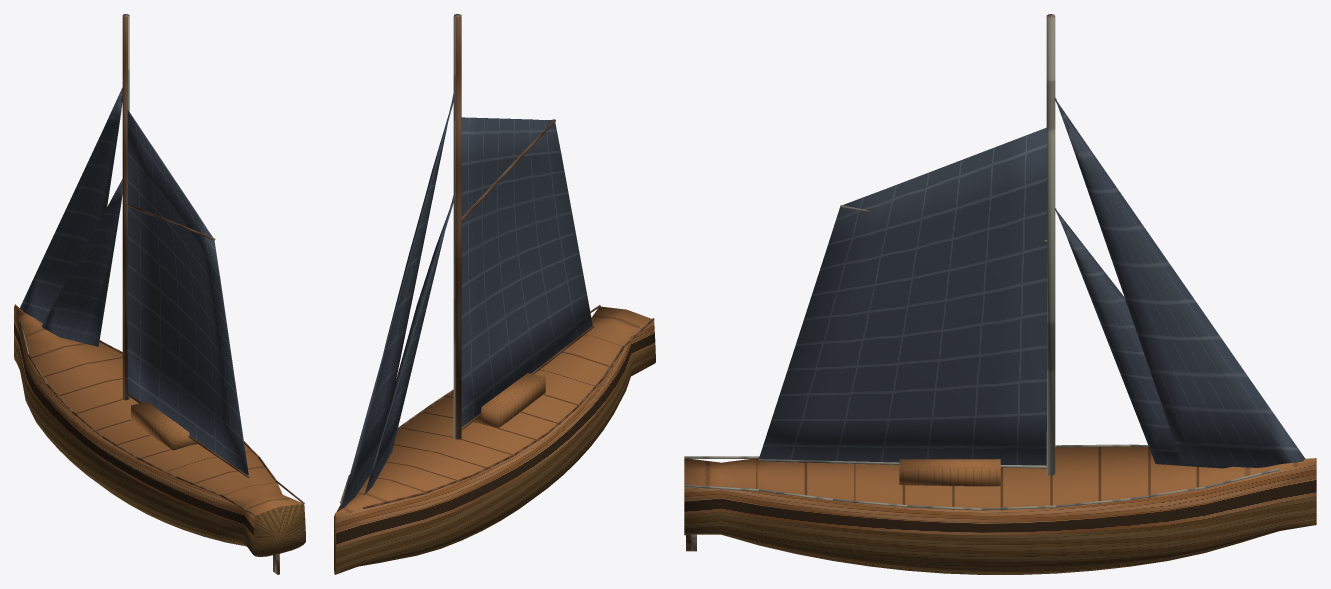
File: SHIP-L_LOD0.fbx
The picture shows the model from 3 angles, left to right: view 1: azimuth 30°, elevation 25°; view 2: azimuth 150°, elevation 25°; view 3: azimuth 270°, elevation 25°; orthographic projection. The views are drawn at different scales.
Visible parts, largest first — view 1: Sails, Hull, Masts; view 2: Sails, Hull, Masts; view 3: Sails, Hull, Masts.
Boxes of the visible parts, <box> form: Sails: <box>20,87,248,475</box>; Hull: <box>14,304,305,556</box>; Masts: <box>19,14,304,574</box>; Sails: <box>340,92,592,509</box>; Hull: <box>334,306,655,574</box>; Masts: <box>340,14,654,508</box>; Sails: <box>759,97,1305,468</box>; Hull: <box>684,446,1316,574</box>; Masts: <box>684,14,1279,551</box>.
Size of the model in its own units: 4 by 16 by 15.2.
3 materials, 3 textured.
